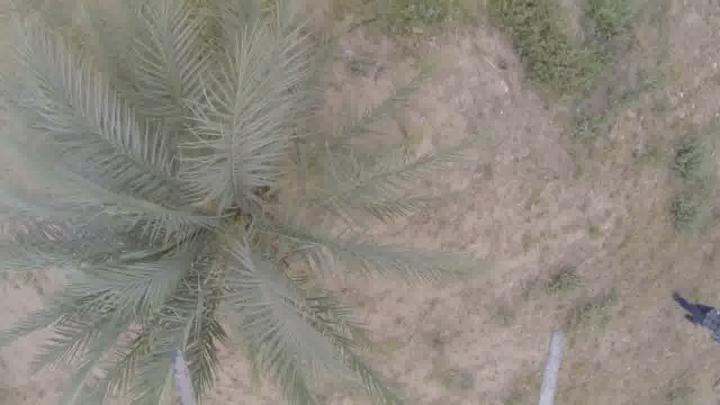Date-Palm-Crown: (87, 53, 342, 364)
